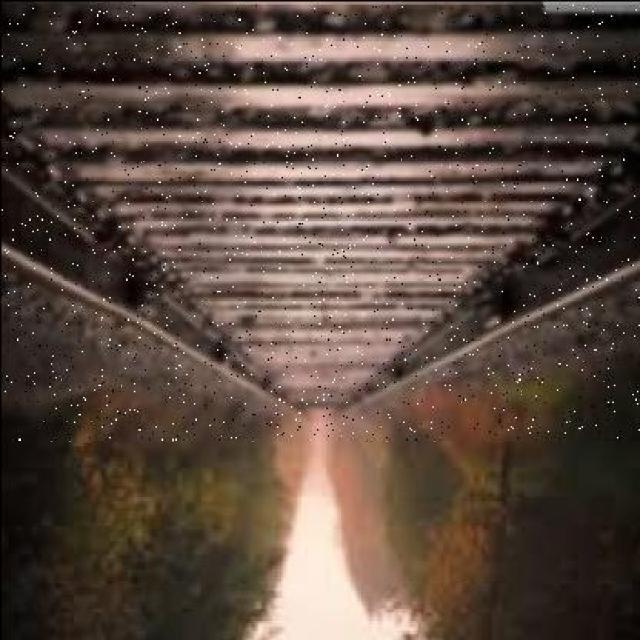rail: (0, 3, 640, 440)
